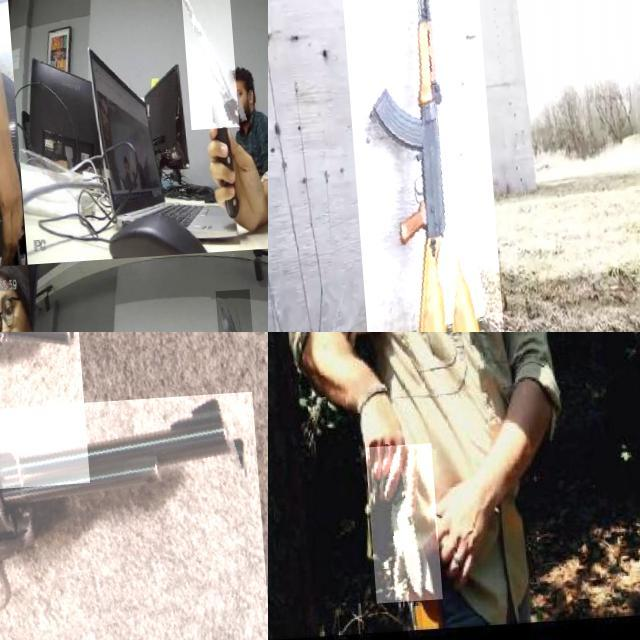-: (358, 447, 434, 607), (179, 0, 236, 137), (210, 296, 253, 332), (0, 149, 20, 199)
gun-knife-thesis - v11 Yolov5 augmented: (0, 399, 261, 640), (332, 0, 498, 332), (0, 332, 182, 506)
